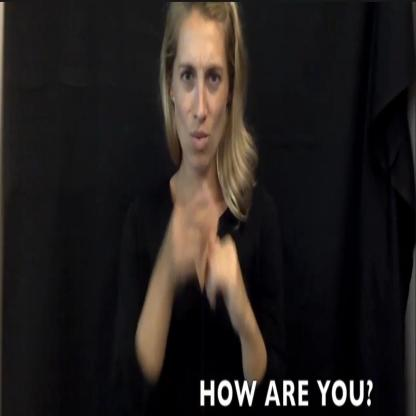HowAreYou: (133, 165, 258, 335)
